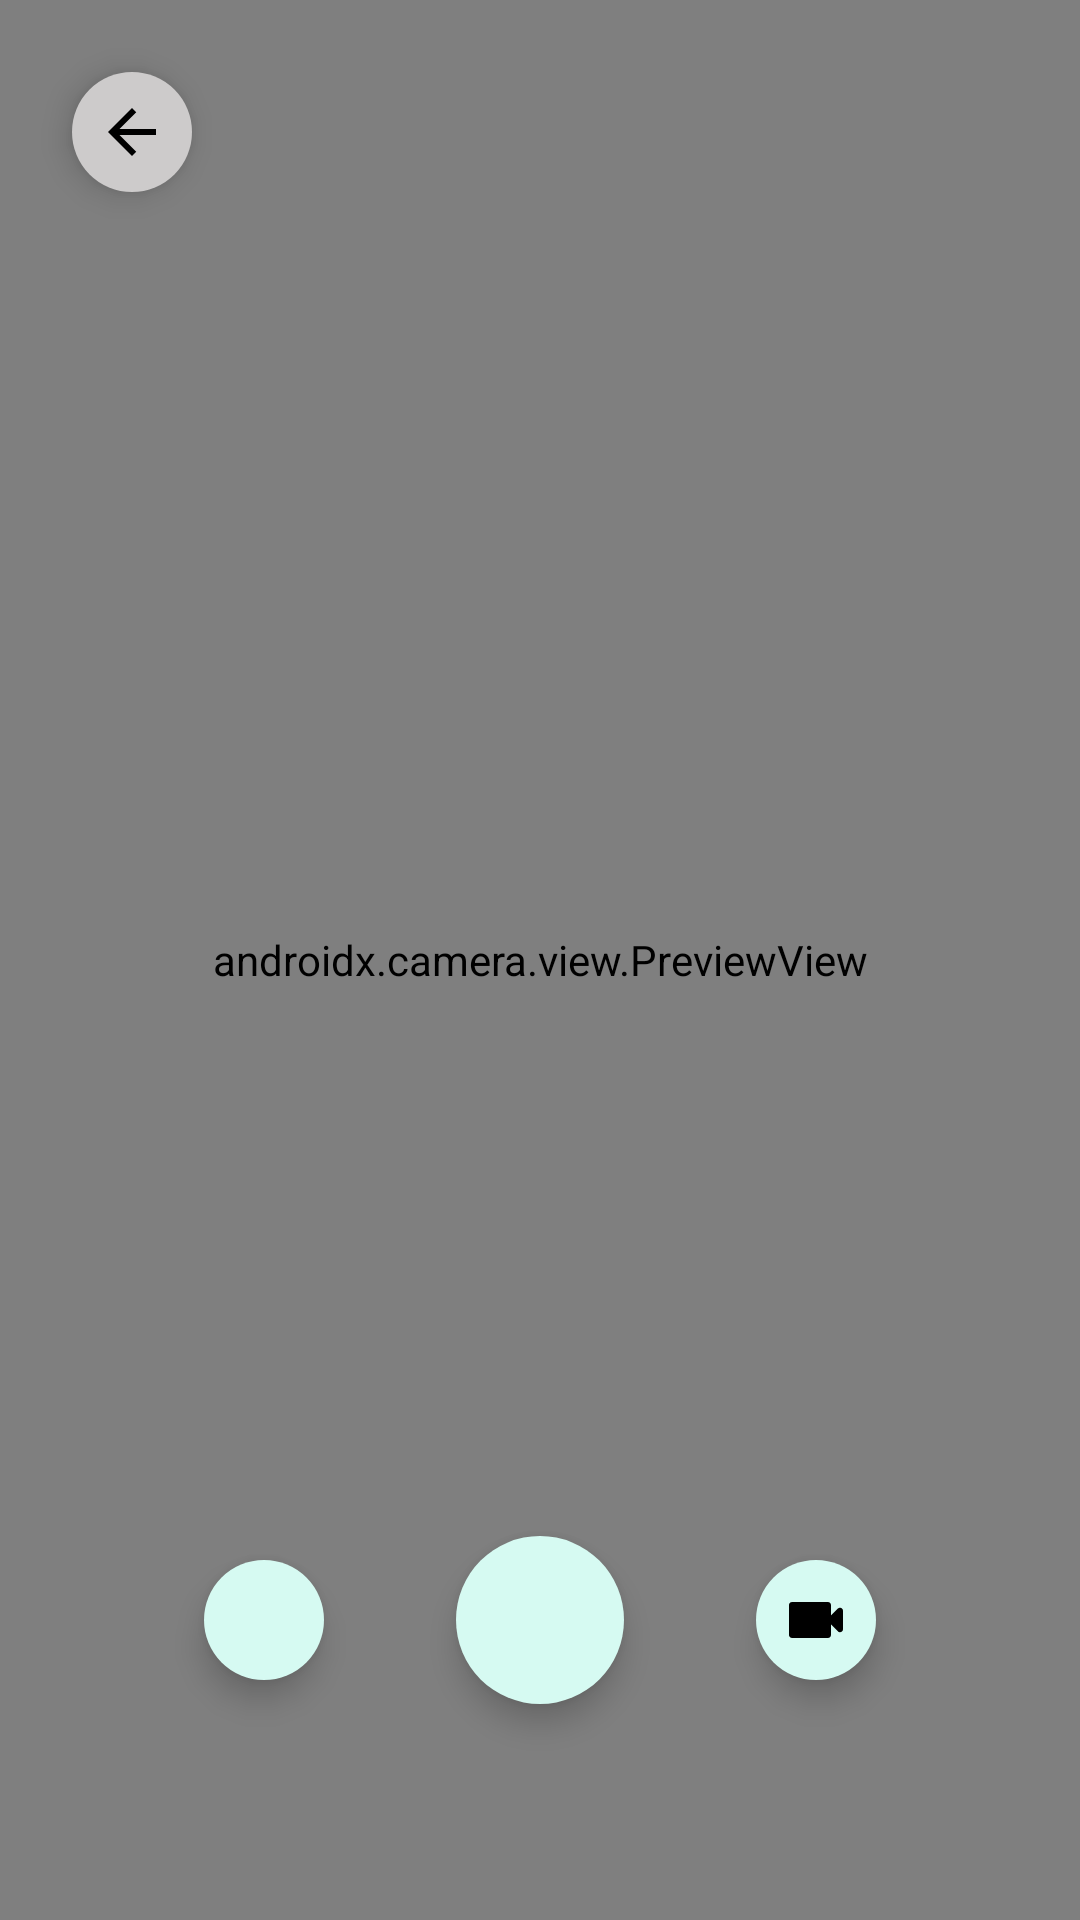

Point at icon controls on the screen. Image size 1080w x 1920h, points as [x,y].
back button: [132,132]
record video: [816,1620]
